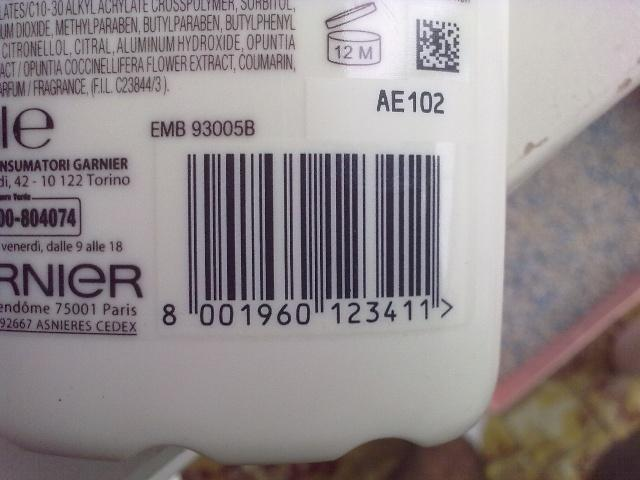Barcode: (155, 143, 467, 328)
